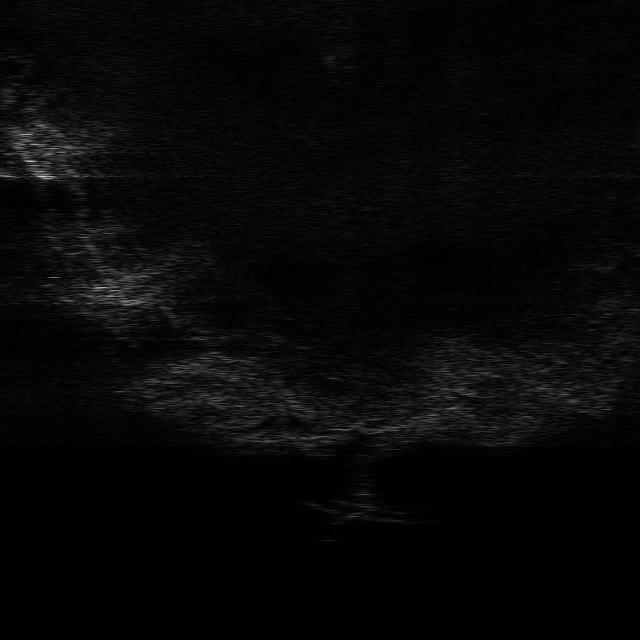plane: (300, 497, 415, 524)
